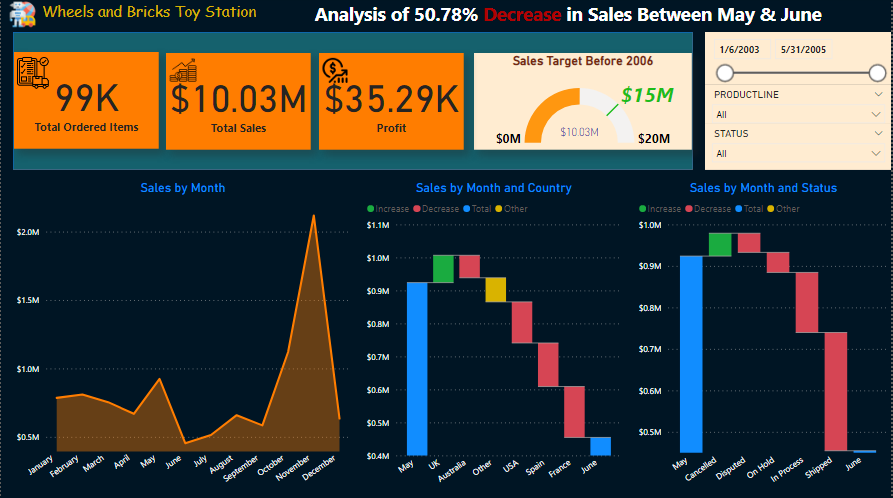

Layout of this report page (visuals, bound fields, positions):
{"tool":"powerbi","page":{"name":"Page 2","canvas":[1280,720],"ordinal":1},"visuals":[{"type":"image","box":[0,0,61.8,50.3],"z":0},{"type":"waterfallChart","title":"Sales by Month and Status","fields":{"Category":["Date.Date.Variation.Date Hierarchy.Month"],"Breakdown":["sales_data_sample.STATUS"],"Y":["Sum(sales_data_sample.SALES)"]},"box":[911.1,263,369.3,457],"z":1000},{"type":"waterfallChart","title":"Sales by Month and Country","fields":{"Category":["Date.Date.Variation.Date Hierarchy.Month"],"Breakdown":["sales_data_sample.COUNTRY"],"Y":["Sum(sales_data_sample.SALES)"]},"box":[520.2,263,376.5,457],"z":2000},{"type":"textbox","box":[0,0,425.4,50.3],"z":3000},{"type":"slicer","fields":{"Values":["sales_data_sample.PRODUCTLINE"]},"box":[1011.7,126.5,268.7,56],"z":4000},{"type":"slicer","fields":{"Values":["sales_data_sample.STATUS"]},"box":[1011.7,182.5,268.7,66.1],"z":5000},{"type":"slicer","fields":{"Values":["sales_data_sample.Date"]},"box":[1011.7,50.3,268.7,76.2],"z":6000},{"type":"areaChart","title":"Sales by Month","fields":{"Category":["Date.Date.Variation.Date Hierarchy.Year","Date.Date.Variation.Date Hierarchy.Quarter","Date.Date.Variation.Date Hierarchy.Month","Date.Date.Variation.Date Hierarchy.Day"],"Y":["Sum(sales_data_sample.SALES)"]},"box":[17.2,263,488.6,457],"z":7000},{"type":"shape","box":[17.2,50.3,977.2,198.3],"z":8000},{"type":"card","fields":{"Values":["sales_data_sample.Total Ordered Items"]},"box":[18.7,79,208.4,139.4],"z":9000},{"type":"card","fields":{"Values":["sales_data_sample.Total Sales"]},"box":[237.1,80.5,208.4,139.4],"z":10000},{"type":"gauge","title":"Sales Target Before 2006","fields":{"TargetValue":["sales_data_sample.Goal before 2006"],"MaxValue":["sales_data_sample.Max"],"Y":["Sum(sales_data_sample.SALES)"]},"box":[679.8,80.5,313.3,139.4],"z":11000},{"type":"card","fields":{"Values":["sales_data_sample.Profit"]},"box":[457,80.5,208.4,139.4],"z":12000},{"type":"image","box":[17.2,80.5,57.5,57.5],"z":13000},{"type":"image","box":[237.1,80.5,48.9,48.9],"z":14000},{"type":"image","box":[457,80.5,46,48.9],"z":15000},{"type":"textbox","box":[445.5,0,835,50.3],"z":16000}]}

Visuals, with their boxes in screenshot pixels (x1, y1, x2, y2), scaled from the page's 1280x720 canvas onto the 893x498 screenshot:
image: pyautogui.locateOnScreen(0, 0, 43, 35)
"Sales by Month and Status" waterfallChart: pyautogui.locateOnScreen(636, 182, 892, 497)
"Sales by Month and Country" waterfallChart: pyautogui.locateOnScreen(363, 182, 626, 497)
textbox: pyautogui.locateOnScreen(0, 0, 297, 35)
slicer - sales_data_sample.PRODUCTLINE: pyautogui.locateOnScreen(706, 87, 892, 126)
slicer - sales_data_sample.STATUS: pyautogui.locateOnScreen(706, 126, 892, 172)
slicer - sales_data_sample.Date: pyautogui.locateOnScreen(706, 35, 892, 87)
"Sales by Month" areaChart: pyautogui.locateOnScreen(12, 182, 353, 497)
shape: pyautogui.locateOnScreen(12, 35, 694, 172)
card - sales_data_sample.Total Ordered Items: pyautogui.locateOnScreen(13, 55, 158, 151)
card - sales_data_sample.Total Sales: pyautogui.locateOnScreen(165, 56, 311, 152)
"Sales Target Before 2006" gauge: pyautogui.locateOnScreen(474, 56, 693, 152)
card - sales_data_sample.Profit: pyautogui.locateOnScreen(319, 56, 464, 152)
image: pyautogui.locateOnScreen(12, 56, 52, 95)
image: pyautogui.locateOnScreen(165, 56, 200, 90)
image: pyautogui.locateOnScreen(319, 56, 351, 90)
textbox: pyautogui.locateOnScreen(311, 0, 892, 35)
